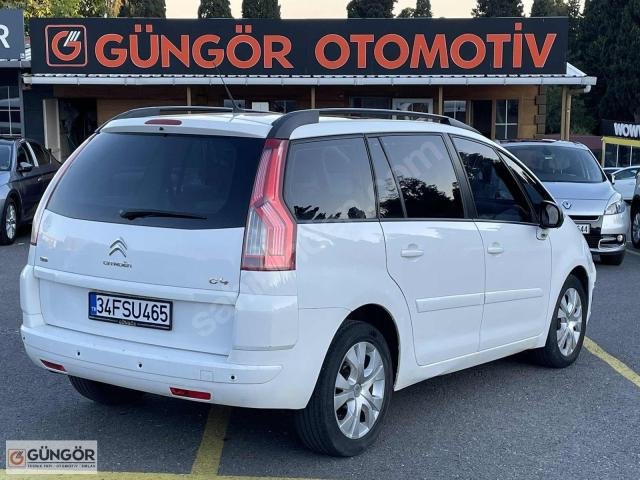plaka: (88, 292, 172, 330)
